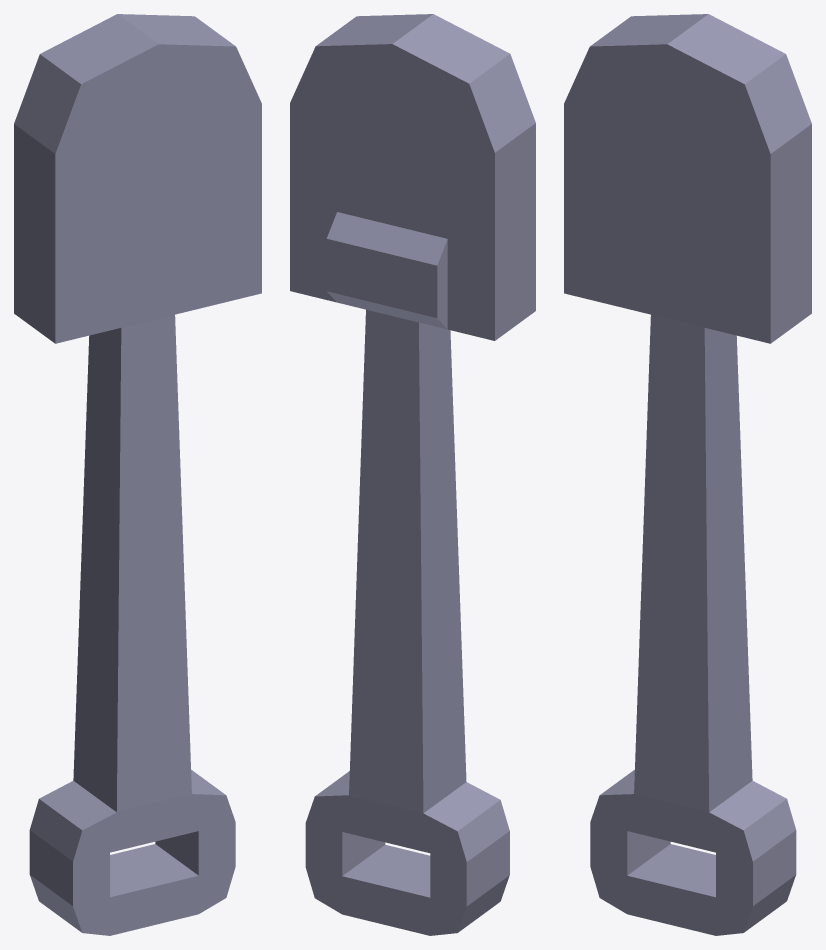
File: tool-shovel.obj
3 views of the same model, side by side, from view 1: azimuth 30°, elevation 25°; view 2: azimuth 150°, elevation 25°; view 3: azimuth 330°, elevation 25° (orthographic).
Size of the model in its own units: 0.0709 by 0.29 by 0.0309.
